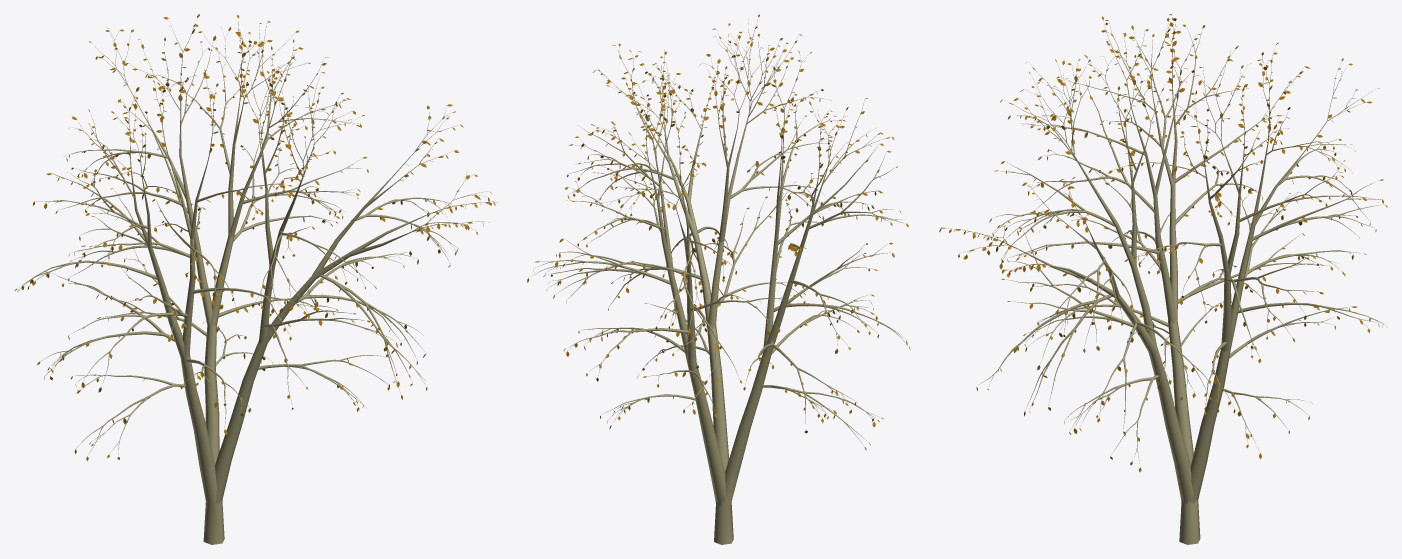
Rendered from birchTreeWithLeaves.obj.
3 views of the same model, side by side, from view 1: azimuth 30°, elevation 25°; view 2: azimuth 150°, elevation 25°; view 3: azimuth 270°, elevation 25° (orthographic). The views are drawn at different scales.
Visible parts, largest first — view 1: tree_CUtree, leaves; view 2: tree_CUtree, leaves; view 3: tree_CUtree, leaves.
Part boxes in pixels (x1,y1,x2,y2): tree_CUtree: (20,21,493,544); leaves: (15,14,497,460); tree_CUtree: (530,20,907,544); leaves: (527,14,910,450); tree_CUtree: (942,15,1384,544); leaves: (939,14,1387,472).
Bounding box in the file's own units: 196 × 247 × 200.
